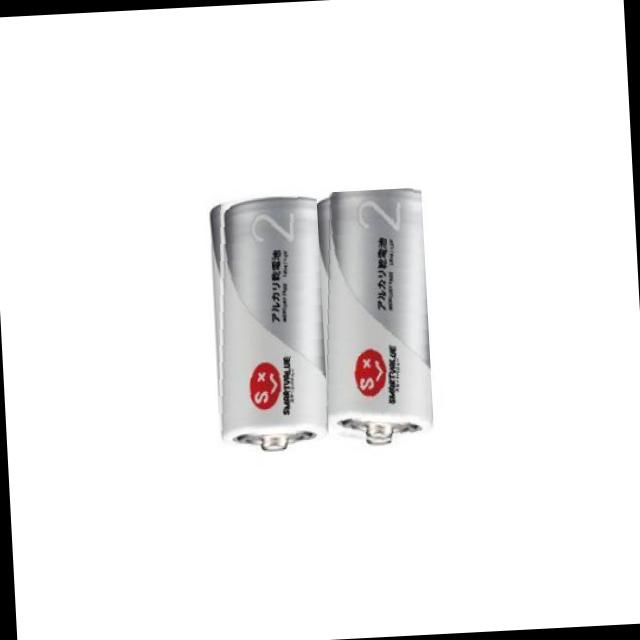Hazard: (204, 192, 328, 454), (312, 186, 433, 448)
